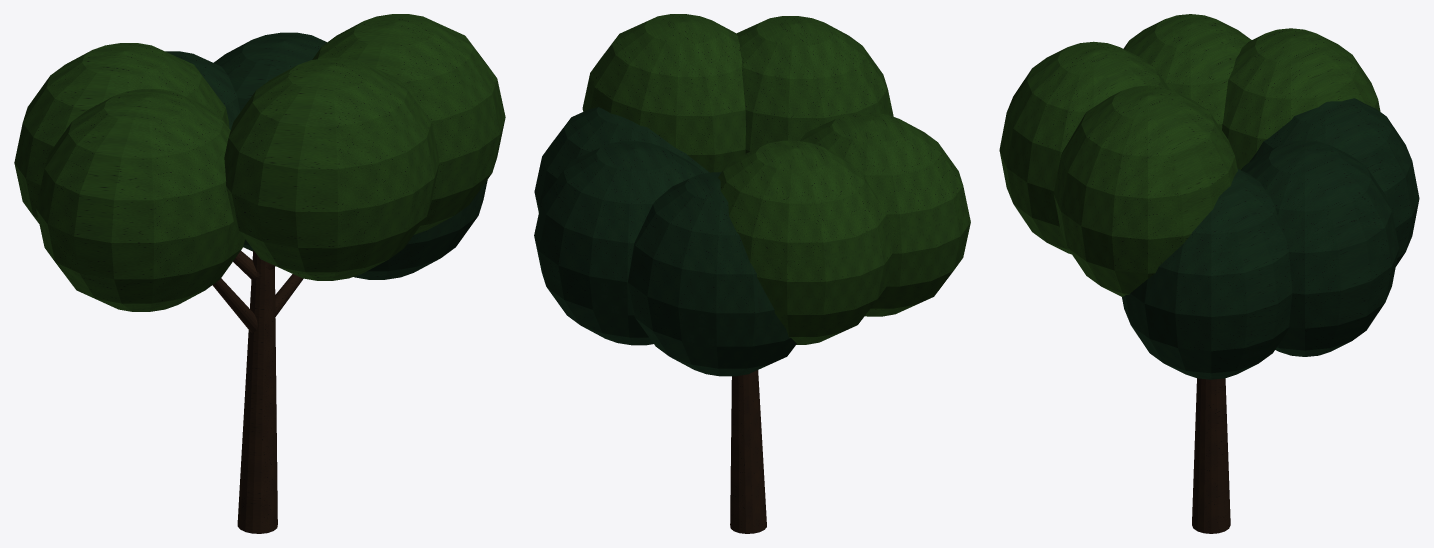
Rendered from PROP-0D643D1E1EEE_lod0.glb.
3 renders of one model, left to right at view 1: azimuth 30°, elevation 25°; view 2: azimuth 150°, elevation 25°; view 3: azimuth 270°, elevation 25°, orthographic. The views are drawn at different scales.
Visible parts, largest first — view 1: leaf_crown.074, leaf_crown.073, trunk.069, branch.041; view 2: leaf_crown.074, leaf_crown.073, trunk.069; view 3: leaf_crown.074, leaf_crown.073, trunk.069.
Boxes of the visible parts, <box> form: leaf_crown.074: <box>14,14,505,311</box>; leaf_crown.073: <box>165,32,487,279</box>; trunk.069: <box>237,250,277,533</box>; branch.041: <box>212,251,303,332</box>; leaf_crown.074: <box>582,14,970,344</box>; leaf_crown.073: <box>534,107,796,376</box>; trunk.069: <box>730,370,766,533</box>; leaf_crown.074: <box>999,14,1380,296</box>; leaf_crown.073: <box>1122,98,1419,379</box>; trunk.069: <box>1192,378,1230,533</box>.
Size of the model in its own units: 6.03 by 6.52 by 5.18.
3 materials, 3 textured.
